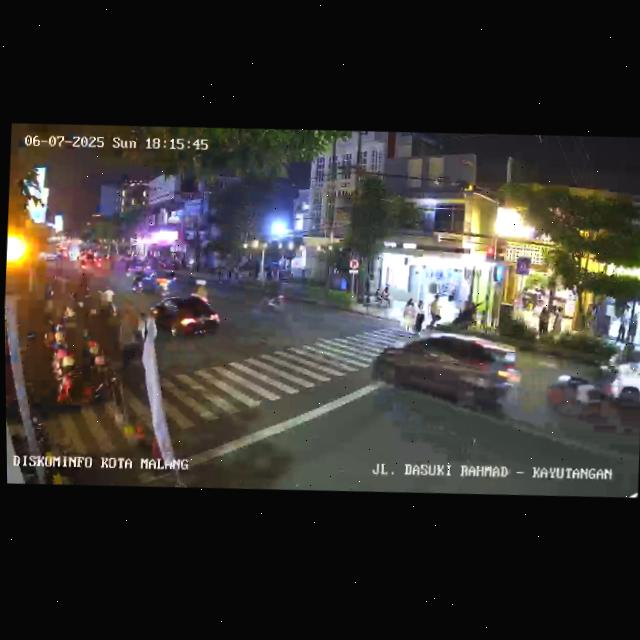car: (369, 325, 523, 422), (150, 291, 222, 346), (131, 267, 179, 296)
motorcycle: (544, 362, 625, 435), (260, 282, 288, 315), (191, 278, 214, 307), (130, 272, 143, 294)
person: (116, 315, 139, 373), (402, 296, 416, 333), (103, 286, 119, 318), (429, 297, 443, 330), (537, 305, 550, 340), (414, 300, 427, 335), (550, 303, 563, 338), (628, 316, 638, 343), (616, 319, 626, 342)
